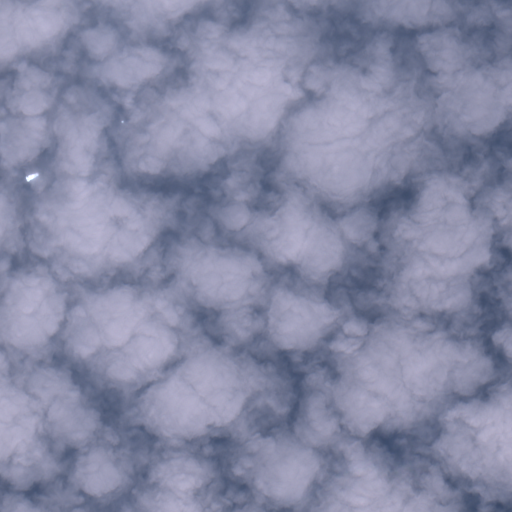Iceberg: (26, 173, 38, 181), (121, 121, 123, 122)
